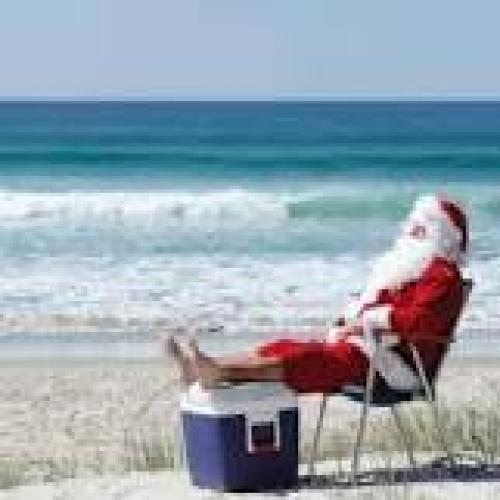Santa: (156, 186, 478, 410)
